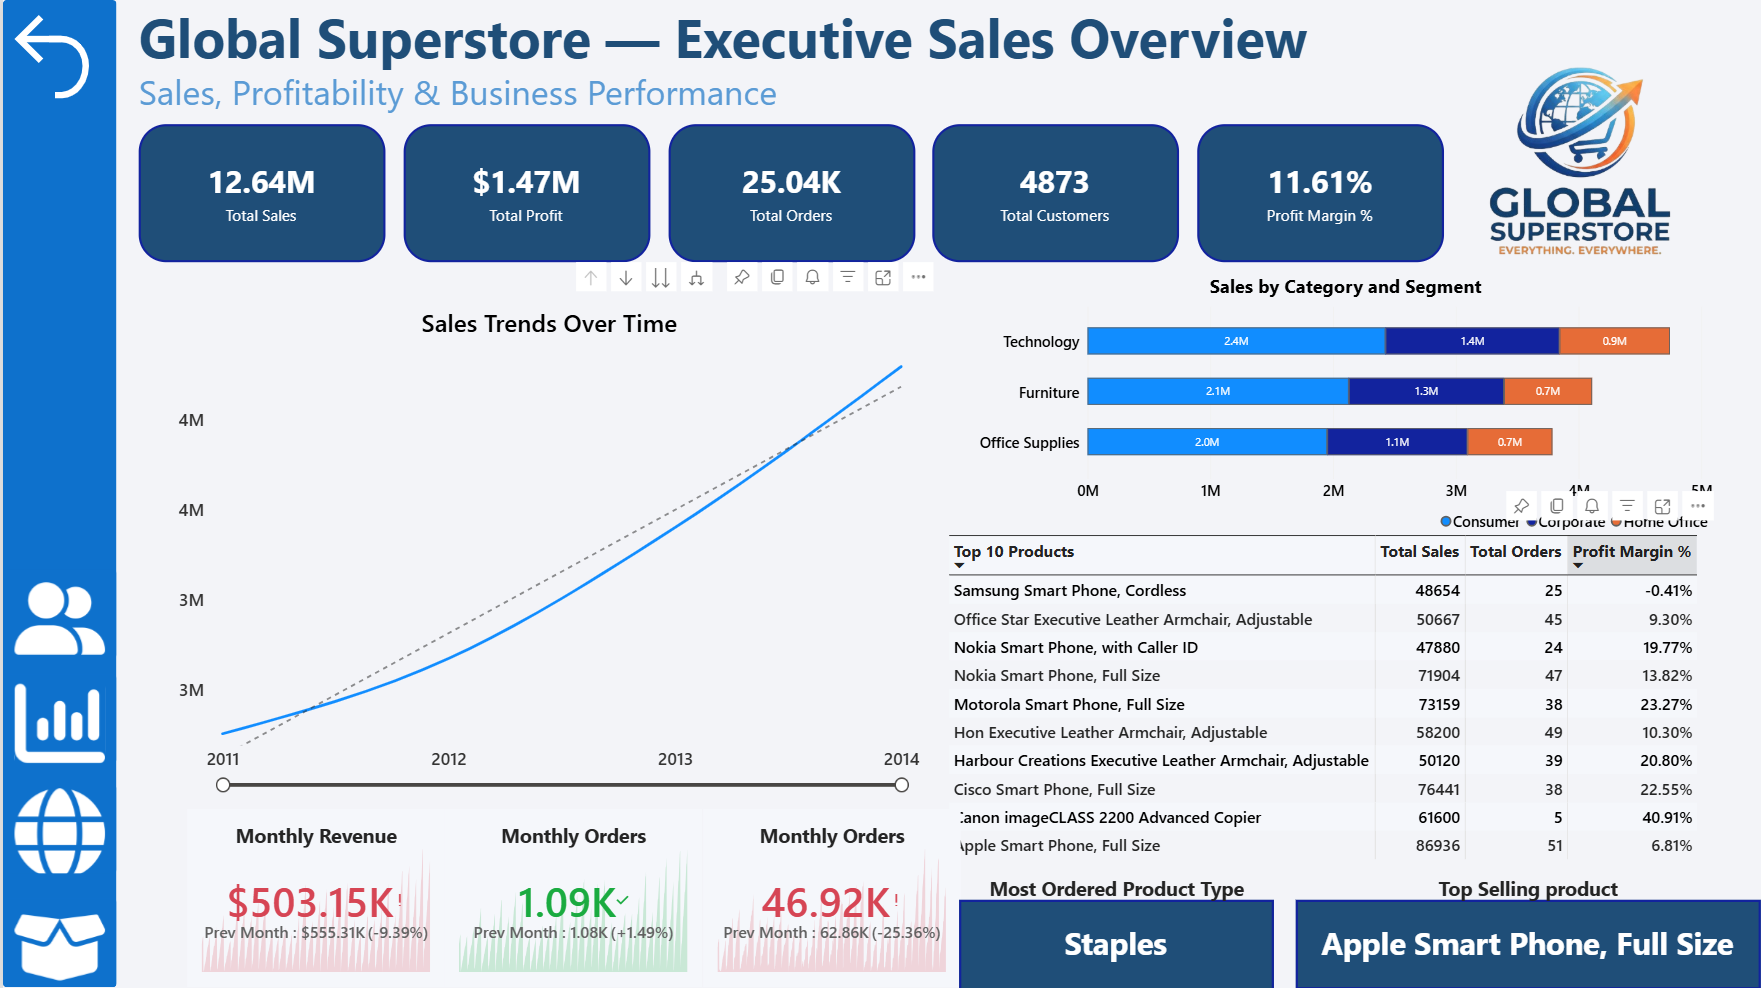

The dashboard page shown, as its layout file describes it:
{"tool":"powerbi","page":{"name":"Main Page","canvas":[1920,1080],"ordinal":0},"visuals":[{"type":"textbox","box":[148.8,0,1767.2,85.6],"z":0},{"type":"textbox","box":[148.8,74.4,1424.9,50.2],"z":1000},{"type":"card","fields":{"Values":["superstore.Total Sales"]},"box":[148.8,135.8,269.7,150.7],"z":2000},{"type":"card","fields":{"Values":["superstore.Profit Margin %"]},"box":[1304,135.8,269.7,150.7],"z":3000},{"type":"card","fields":{"Values":["Customer Measure.Total Customers"]},"box":[1015.2,135.8,269.7,150.7],"z":4000},{"type":"card","fields":{"Values":["superstore.Total Orders"]},"box":[726.4,135.8,269.7,150.7],"z":5000},{"type":"card","fields":{"Values":["superstore.Total Profit"]},"box":[437.6,135.8,269.7,150.7],"z":6000},{"type":"lineChart","title":"Sales Trends Over Time","fields":{"Category":["superstore.Order Date.Variation.Date Hierarchy.Year","superstore.Order Date.Variation.Date Hierarchy.Quarter","superstore.Order Date.Variation.Date Hierarchy.Month","superstore.Order Date.Variation.Date Hierarchy.Day"],"Y":["superstore.Total Sales"]},"box":[175.9,320.2,841.2,559.3],"z":7000},{"type":"barChart","title":"Sales by Category and Segment","fields":{"Category":["superstore.Category"],"Series":["superstore.Segment"],"Y":["superstore.Total Sales"]},"box":[1050,283.3,833.3,316.7],"z":8000},{"type":"tableEx","fields":{"Values":["superstore.Product Name","superstore.Total Sales","superstore.Total Orders","superstore.Profit Margin %"]},"box":[1016.7,570.4,851.9,387],"z":9000},{"type":"kpi","title":"Monthly Revenue","fields":{"Goal":["Time-Based Measures.Previous Month Revenue"],"Indicator":["Time-Based Measures.Monthly Revenue"],"TrendLine":["superstore.Order Date"]},"box":[200.7,884.1,281.5,194.4],"z":10000},{"type":"kpi","title":"Monthly Orders ","fields":{"Goal":["Time-Based Measures.Previous Month Orders"],"Indicator":["Time-Based Measures.Monthly Orders"],"TrendLine":["superstore.Order Date"]},"box":[482.6,884.1,281.5,194.4],"z":11000},{"type":"kpi","title":"Monthly Orders ","fields":{"Goal":["Time-Based Measures.Previous Month Profit"],"Indicator":["Time-Based Measures.Monthly Profit"],"TrendLine":["superstore.Order Date"]},"box":[764.5,884.1,281.5,194.4],"z":12000},{"type":"card","fields":{"Values":["superstore.Most Ordered Product"]},"box":[1044.8,982.2,344,99.3],"z":13000},{"type":"textbox","box":[1044.8,956.5,344,51.5],"z":14000},{"type":"card","fields":{"Values":["superstore.Top Selling Product"]},"box":[1412.6,982.2,507.7,97.5],"z":15000},{"type":"textbox","box":[1412.6,956.5,507.7,51.5],"z":16000},{"type":"actionButton","box":[0,0,124,1078],"z":17000},{"type":"actionButton","box":[0,981,124,97],"z":18000},{"type":"actionButton","box":[0,857.6,124,97],"z":19000},{"type":"image","box":[1525.4,0,394.4,355.3],"z":20000},{"type":"actionButton","box":[0,736.7,124,97],"z":21000},{"type":"actionButton","box":[0,0,108.3,124],"z":22000},{"type":"actionButton","box":[0,622.5,124,97],"z":23000}]}

Visuals, with their boxes in screenshot pixels (x1, y1, x2, y2), scaled from the page's 1920x1080 canvas onto the 1761x988 screenshot:
textbox: {"left": 136, "top": 0, "right": 1757, "bottom": 78}
textbox: {"left": 136, "top": 68, "right": 1443, "bottom": 114}
card - superstore.Total Sales: {"left": 136, "top": 124, "right": 384, "bottom": 262}
card - superstore.Profit Margin %: {"left": 1196, "top": 124, "right": 1443, "bottom": 262}
card - Customer Measure.Total Customers: {"left": 931, "top": 124, "right": 1178, "bottom": 262}
card - superstore.Total Orders: {"left": 666, "top": 124, "right": 914, "bottom": 262}
card - superstore.Total Profit: {"left": 401, "top": 124, "right": 649, "bottom": 262}
"Sales Trends Over Time" lineChart: {"left": 161, "top": 293, "right": 933, "bottom": 805}
"Sales by Category and Segment" barChart: {"left": 963, "top": 259, "right": 1727, "bottom": 549}
tableEx - superstore.Product Name x superstore.Total Sales: {"left": 933, "top": 522, "right": 1714, "bottom": 876}
"Monthly Revenue" kpi: {"left": 184, "top": 809, "right": 442, "bottom": 987}
"Monthly Orders " kpi: {"left": 443, "top": 809, "right": 701, "bottom": 987}
"Monthly Orders " kpi: {"left": 701, "top": 809, "right": 959, "bottom": 987}
card - superstore.Most Ordered Product: {"left": 958, "top": 899, "right": 1274, "bottom": 987}
textbox: {"left": 958, "top": 875, "right": 1274, "bottom": 922}
card - superstore.Top Selling Product: {"left": 1296, "top": 899, "right": 1760, "bottom": 987}
textbox: {"left": 1296, "top": 875, "right": 1760, "bottom": 922}
actionButton: {"left": 0, "top": 0, "right": 114, "bottom": 986}
actionButton: {"left": 0, "top": 897, "right": 114, "bottom": 986}
actionButton: {"left": 0, "top": 785, "right": 114, "bottom": 873}
image: {"left": 1399, "top": 0, "right": 1760, "bottom": 325}
actionButton: {"left": 0, "top": 674, "right": 114, "bottom": 763}
actionButton: {"left": 0, "top": 0, "right": 99, "bottom": 113}
actionButton: {"left": 0, "top": 569, "right": 114, "bottom": 658}
